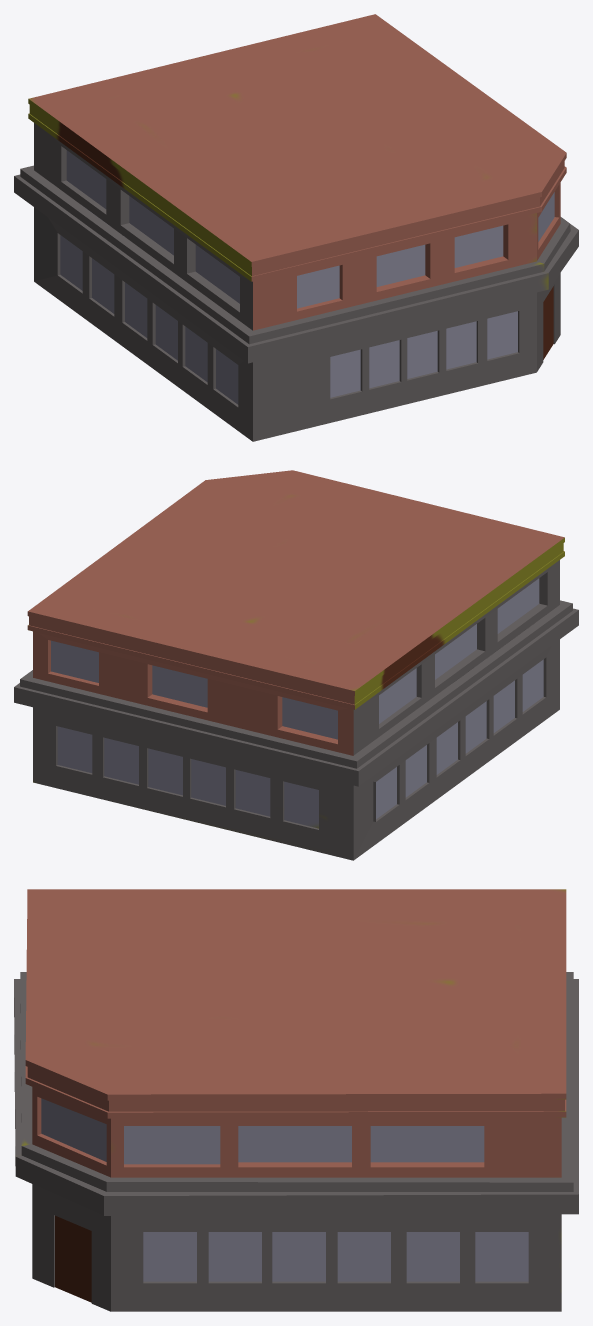
File: MassAve_CornerStore_Mesh.fbx
3 renders of one model, top to bottom at view 1: azimuth 30°, elevation 25°; view 2: azimuth 150°, elevation 25°; view 3: azimuth 270°, elevation 25°, orthographic. The views are drawn at different scales.
Parts seen in each view (by area): view 1: Corner Store; view 2: Corner Store; view 3: Corner Store.
Boxes of the visible parts, bbox=[...] form: Corner Store: bbox=[14, 14, 578, 441]; Corner Store: bbox=[14, 470, 578, 860]; Corner Store: bbox=[14, 889, 578, 1311].
Bounding box in the file's own units: 1952 × 922 × 2146.
1 material, 1 textured.
